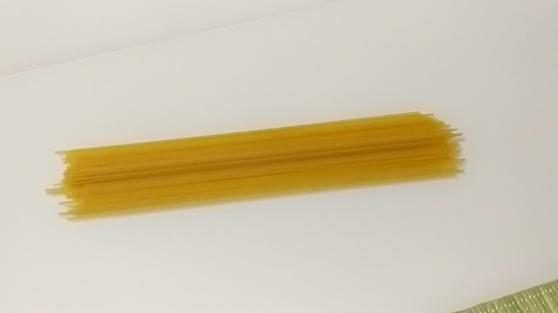spaghetti: (42, 108, 492, 229)
